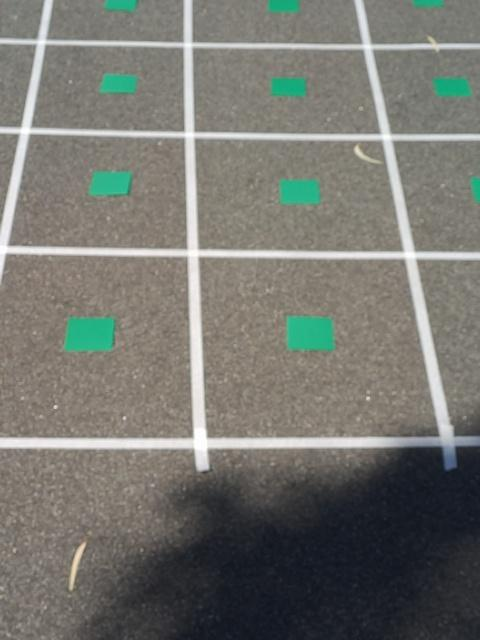weed: (63, 314, 117, 354), (285, 315, 335, 353), (86, 169, 134, 197), (278, 178, 320, 207), (432, 75, 473, 98), (99, 72, 138, 95), (270, 77, 307, 97), (265, 0, 303, 15), (101, 0, 140, 10), (410, 0, 444, 9), (470, 175, 480, 203)
